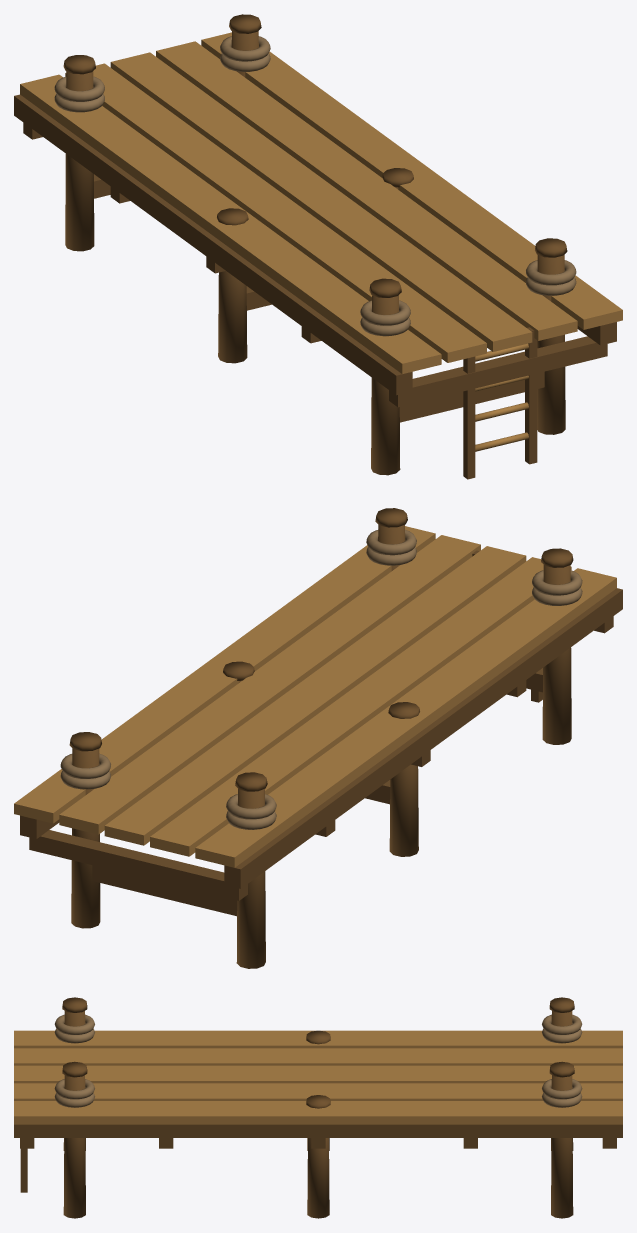
Rendered from Dock.fbx.
3 views of the same model, one above another, from view 1: azimuth 30°, elevation 25°; view 2: azimuth 150°, elevation 25°; view 3: azimuth 270°, elevation 25° (orthographic). The views are drawn at different scales.
Visible parts, largest first — view 1: Dock; view 2: Dock; view 3: Dock.
Boxes of the visible parts, x1,y1,x2,y2 form: Dock: [14, 14, 622, 479]; Dock: [14, 508, 622, 968]; Dock: [14, 997, 622, 1218].
Size of the model in its own units: 205 by 160 by 600.
